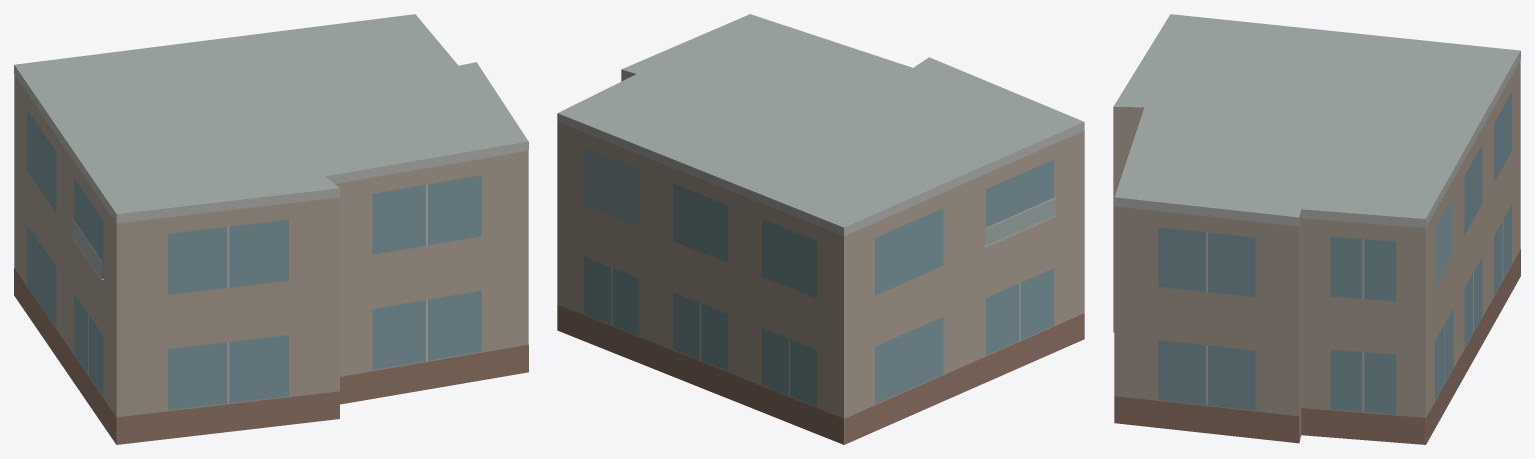
The model's file is survey-upis-32981693.glb.
3 renders of one model, left to right at view 1: azimuth 30°, elevation 25°; view 2: azimuth 150°, elevation 25°; view 3: azimuth 270°, elevation 25°, orthographic. The views are drawn at different scales.
Parts seen in each view (by area): view 1: survey-upis-32981693.tmp; view 2: survey-upis-32981693.tmp; view 3: survey-upis-32981693.tmp.
Boxes of the visible parts, box(x1,y1,x2,y2) form: survey-upis-32981693.tmp: box(14, 14, 528, 444); survey-upis-32981693.tmp: box(557, 14, 1084, 444); survey-upis-32981693.tmp: box(1113, 14, 1520, 444).
Bounding box in the file's own units: 11.89 × 6.1 × 9.98.
